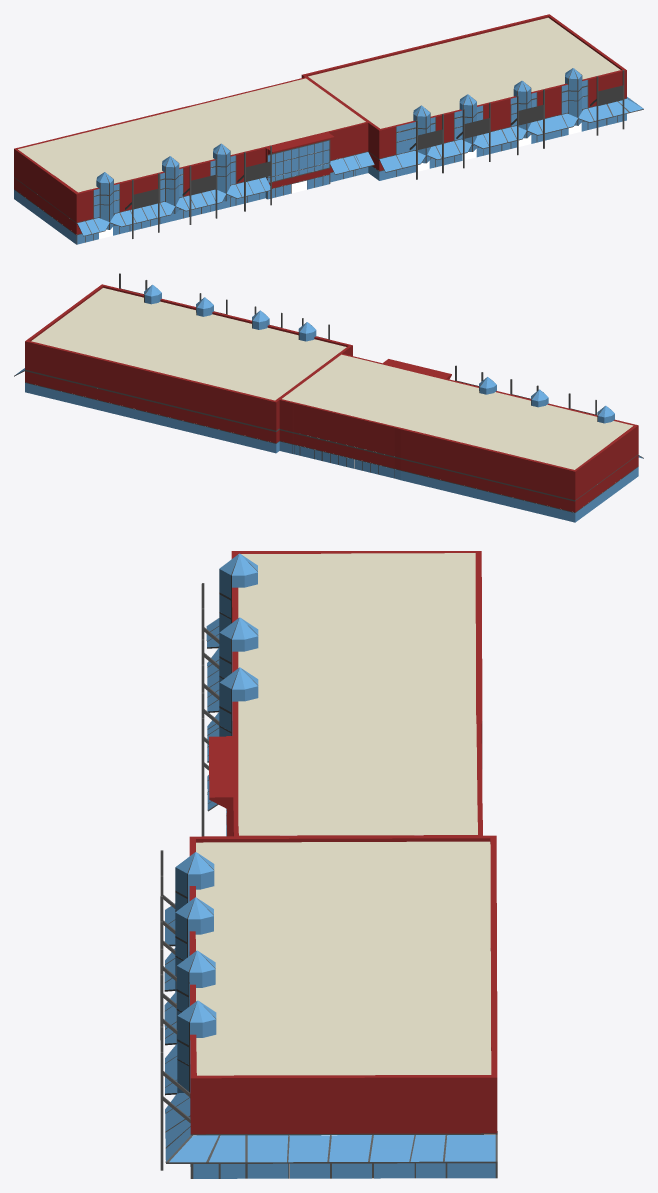
File: goosens_WBV3.glb
3 views of the same model, one above another, from view 1: azimuth 30°, elevation 25°; view 2: azimuth 150°, elevation 25°; view 3: azimuth 270°, elevation 25° (orthographic). The views are drawn at different scales.
Visible parts, largest first — view 1: Cube.004; view 2: Cube.004; view 3: Cube.004.
Part boxes in pixels (bbox=[...]): Cube.004: bbox=[14, 14, 643, 244]; Cube.004: bbox=[14, 273, 643, 522]; Cube.004: bbox=[160, 551, 497, 1178].
Size of the model in its own units: 596 by 66.71 by 158.
